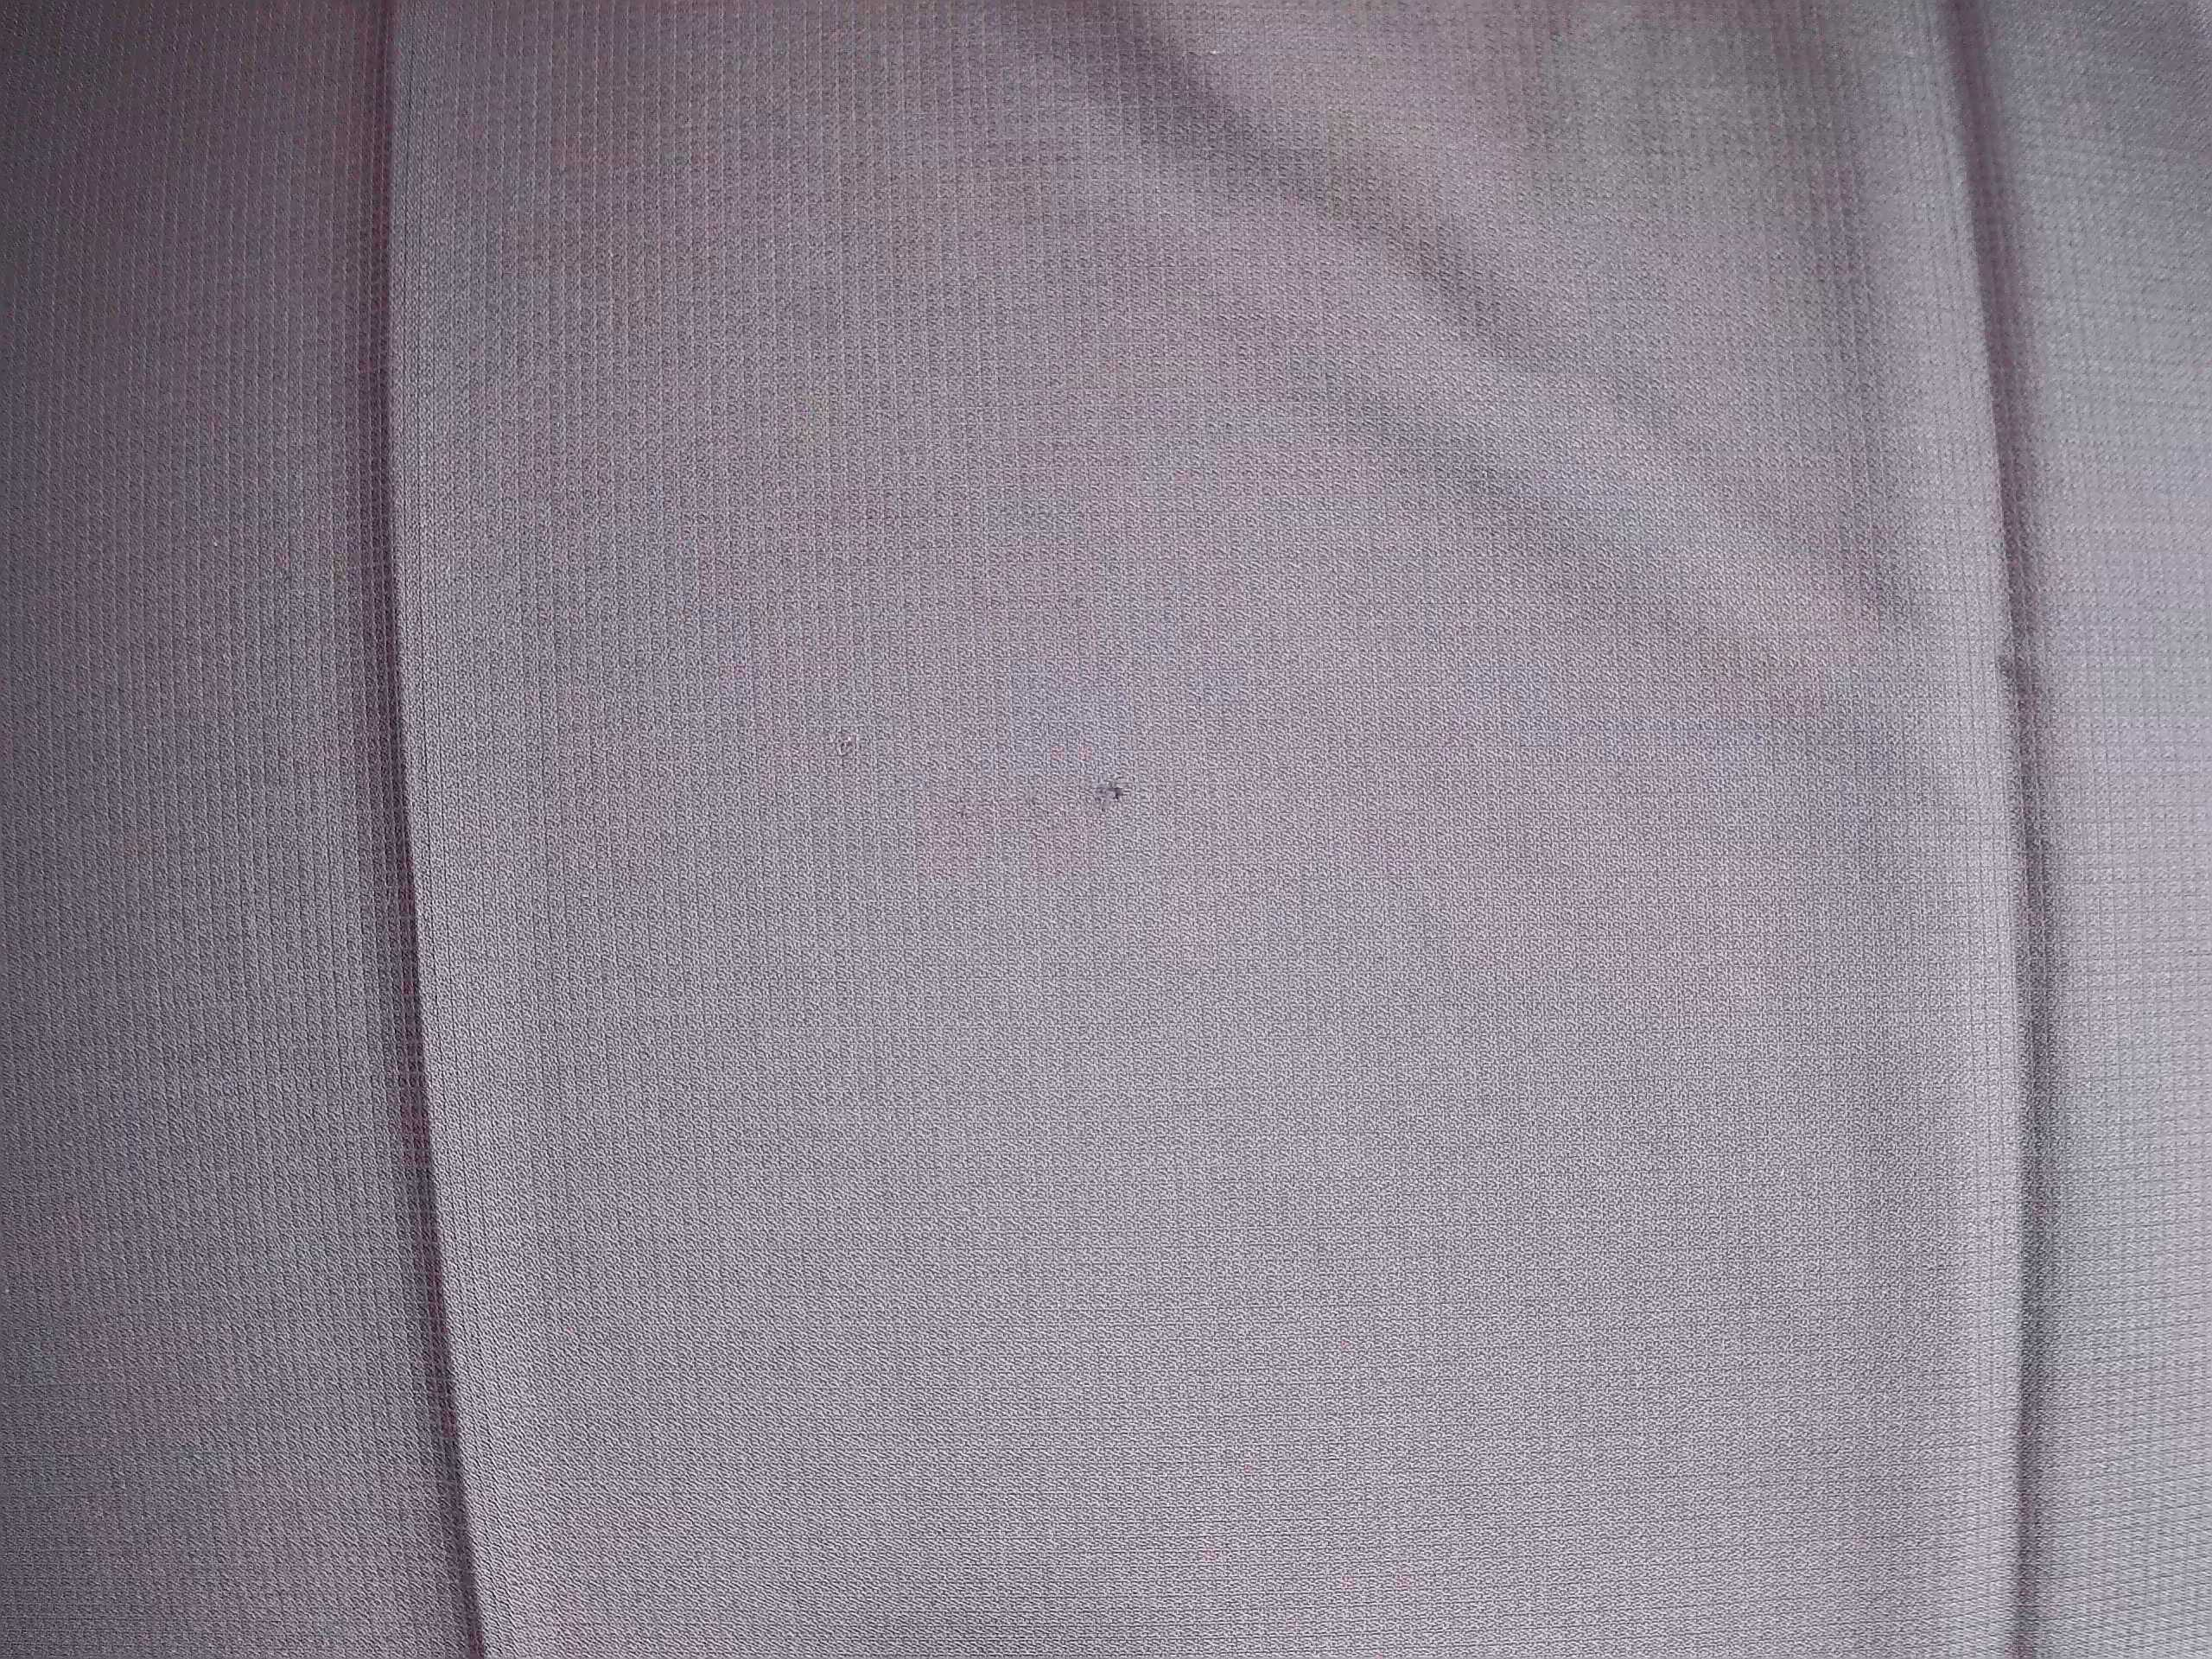rubbing-hole: (1083, 767, 1146, 826), (819, 716, 867, 769)
